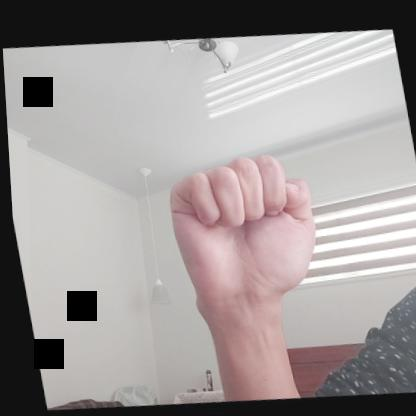A: (157, 138, 329, 313)
